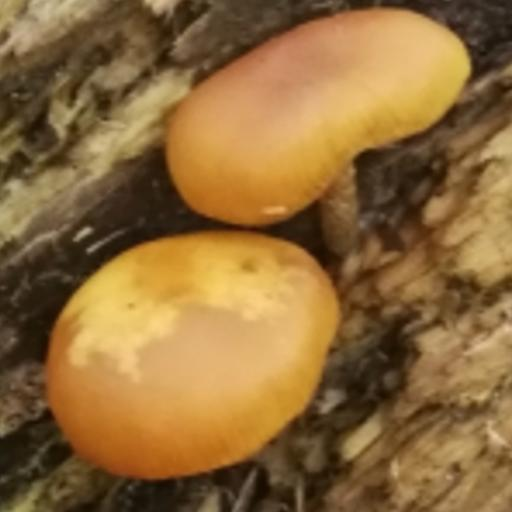mushroom: (32, 219, 331, 481), (171, 6, 478, 217)
